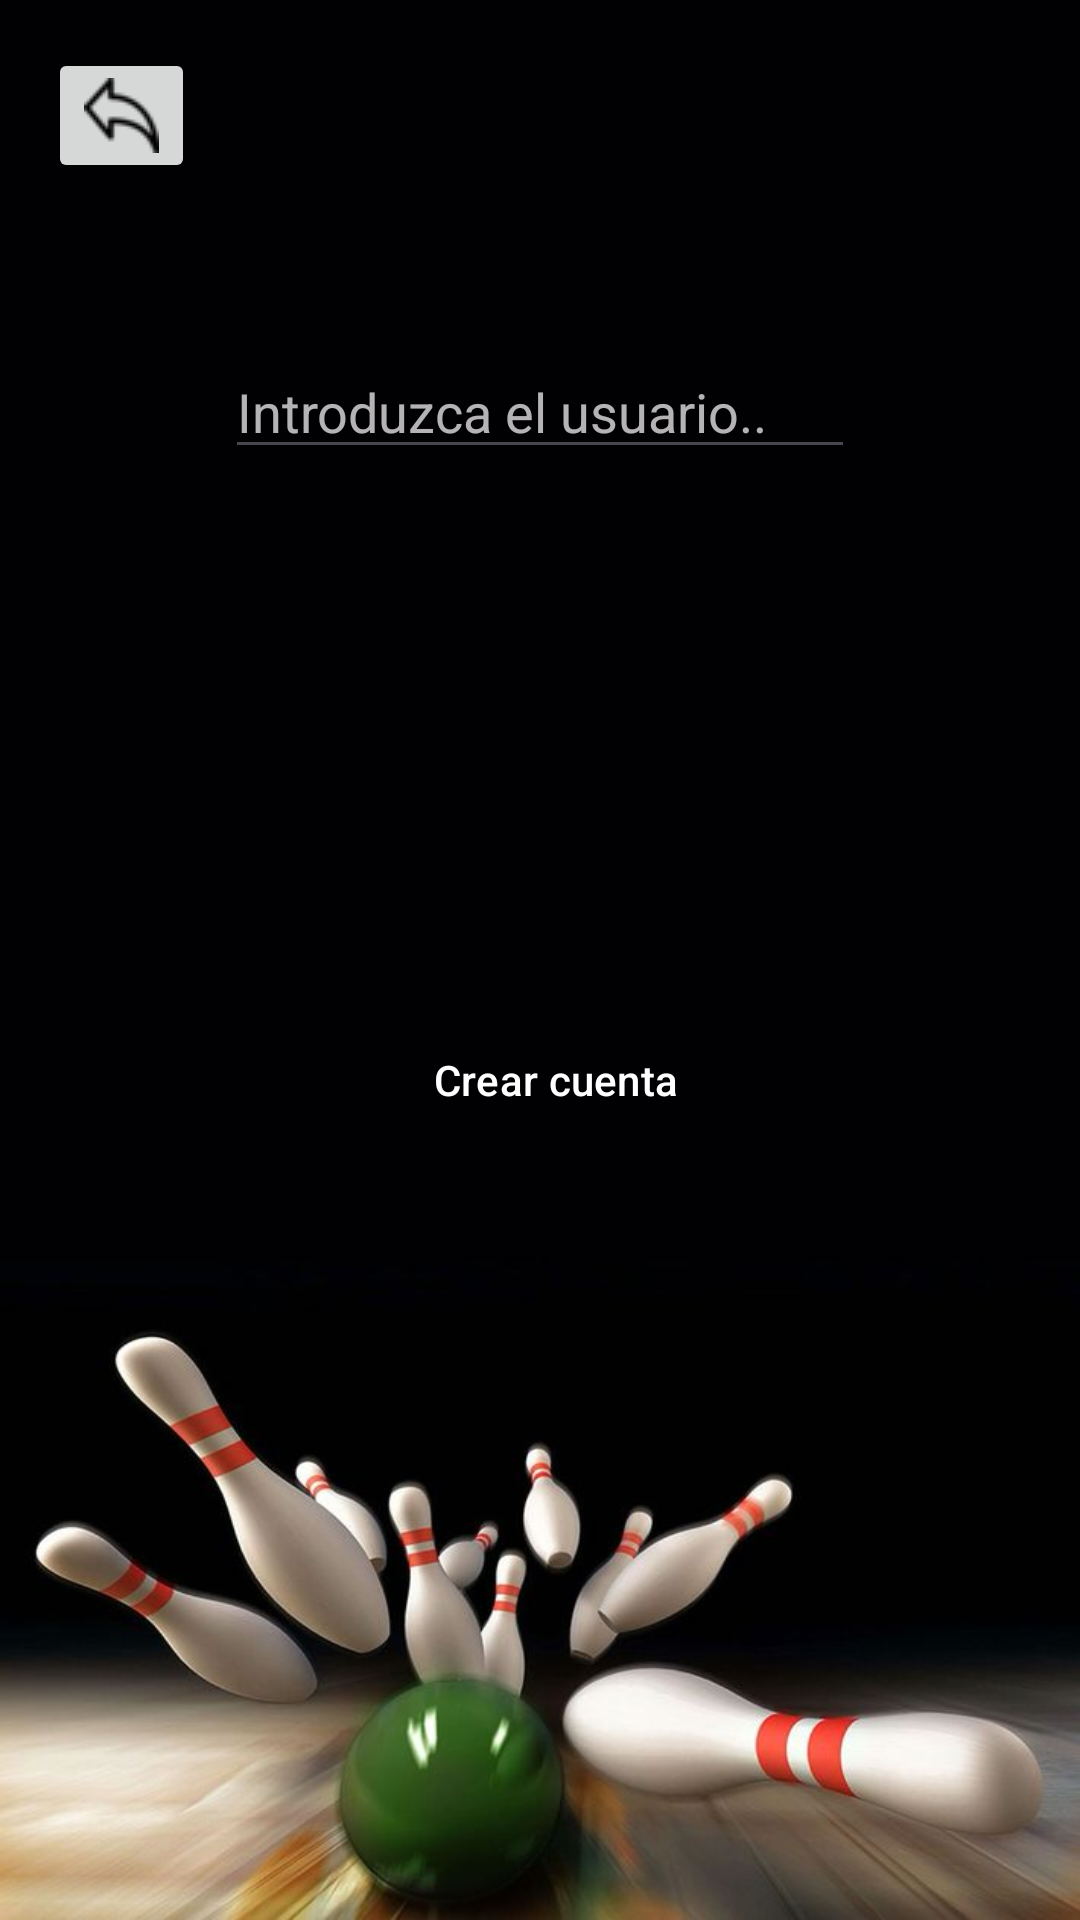

Where to tap for icons on this 1080×1920 app screen, as (x,y):
flecha: (121,115)
